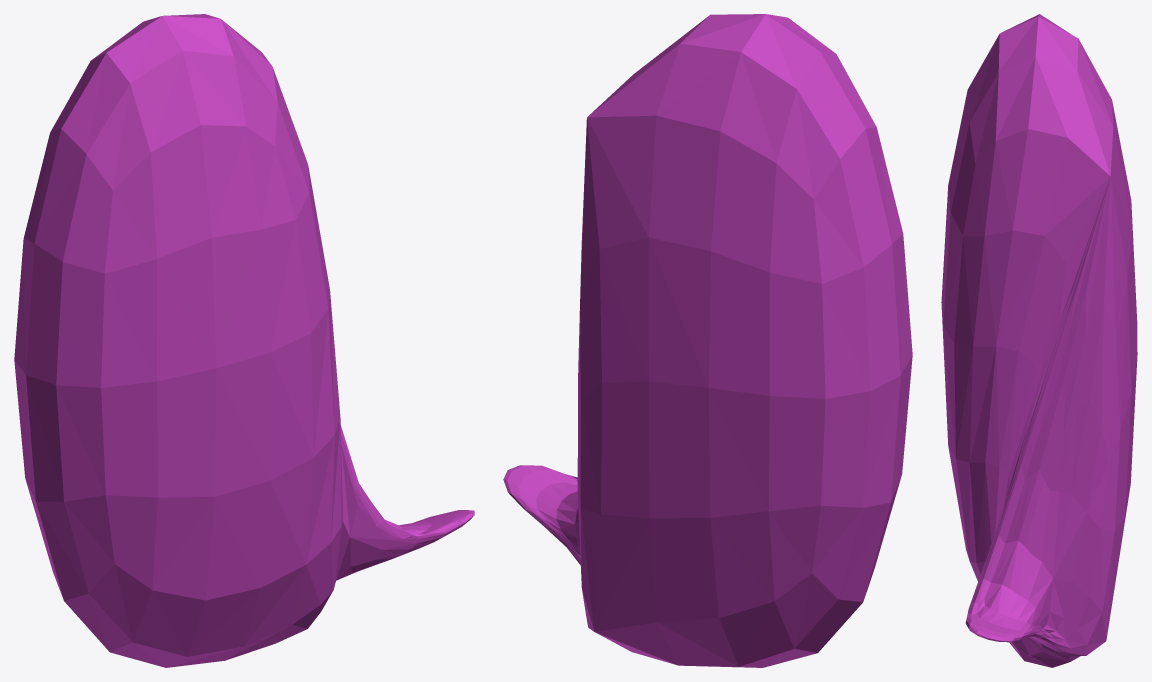
3 views of the same model, side by side, from view 1: azimuth 30°, elevation 25°; view 2: azimuth 150°, elevation 25°; view 3: azimuth 270°, elevation 25° (orthographic). The views are drawn at different scales.
Visible parts, largest first — view 1: 650_Cube.2614; view 2: 650_Cube.2614; view 3: 650_Cube.2614.
Boxes of the visible parts, x1,y1,x2,y2 form: 650_Cube.2614: [14, 14, 474, 667]; 650_Cube.2614: [503, 14, 912, 667]; 650_Cube.2614: [941, 14, 1137, 667].
Bounding box in the file's own units: 7.4 × 11.09 × 3.29.
